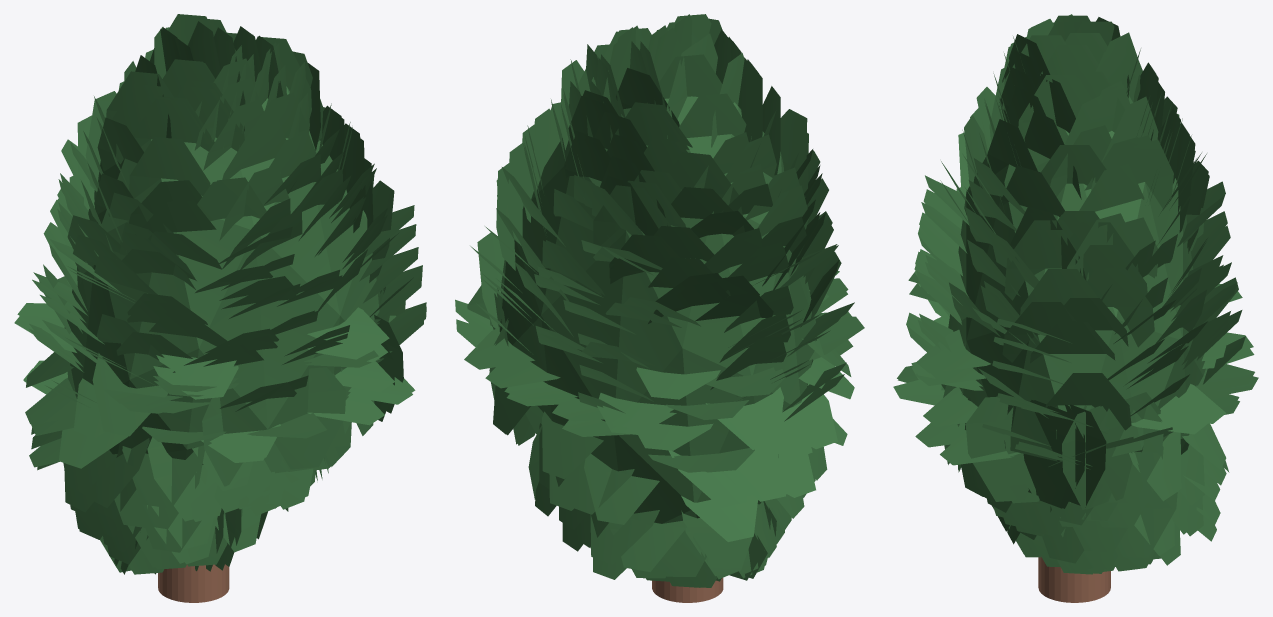
The model's file is new trees.fbx.
3 views of the same model, side by side, from view 1: azimuth 30°, elevation 25°; view 2: azimuth 150°, elevation 25°; view 3: azimuth 270°, elevation 25° (orthographic).
Visible parts, largest first — view 1: Icosphere; view 2: Icosphere; view 3: Icosphere.
Part boxes in pixels (x1=…): Icosphere: x1=14, y1=14, x2=426, y2=602; Icosphere: x1=455, y1=14, x2=864, y2=602; Icosphere: x1=893, y1=14, x2=1258, y2=602.
Size of the model in its own units: 120 by 171 by 101.
